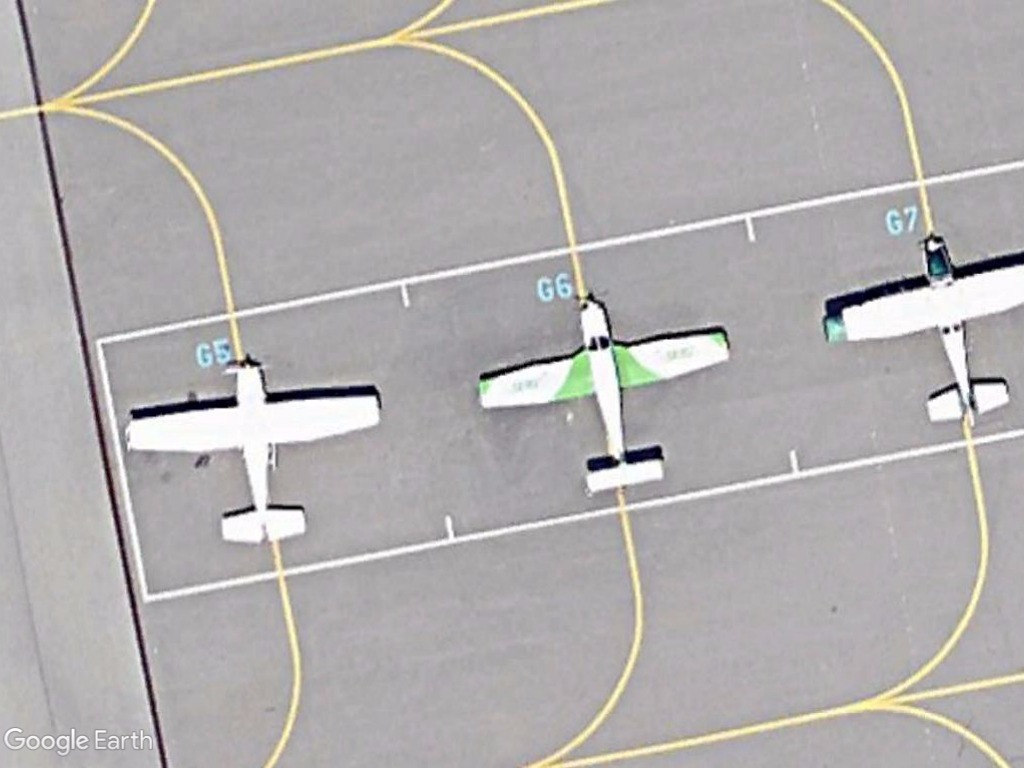trainer: (471, 287, 734, 503), (115, 356, 388, 557)
